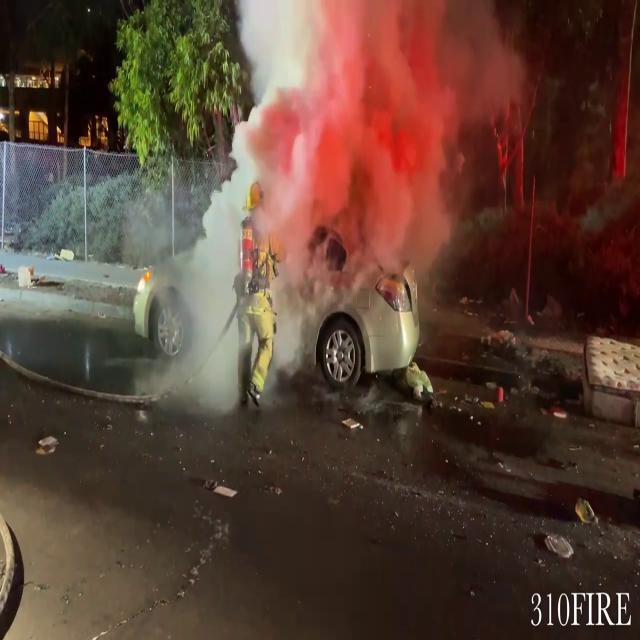Smoke: (164, 0, 469, 380)
